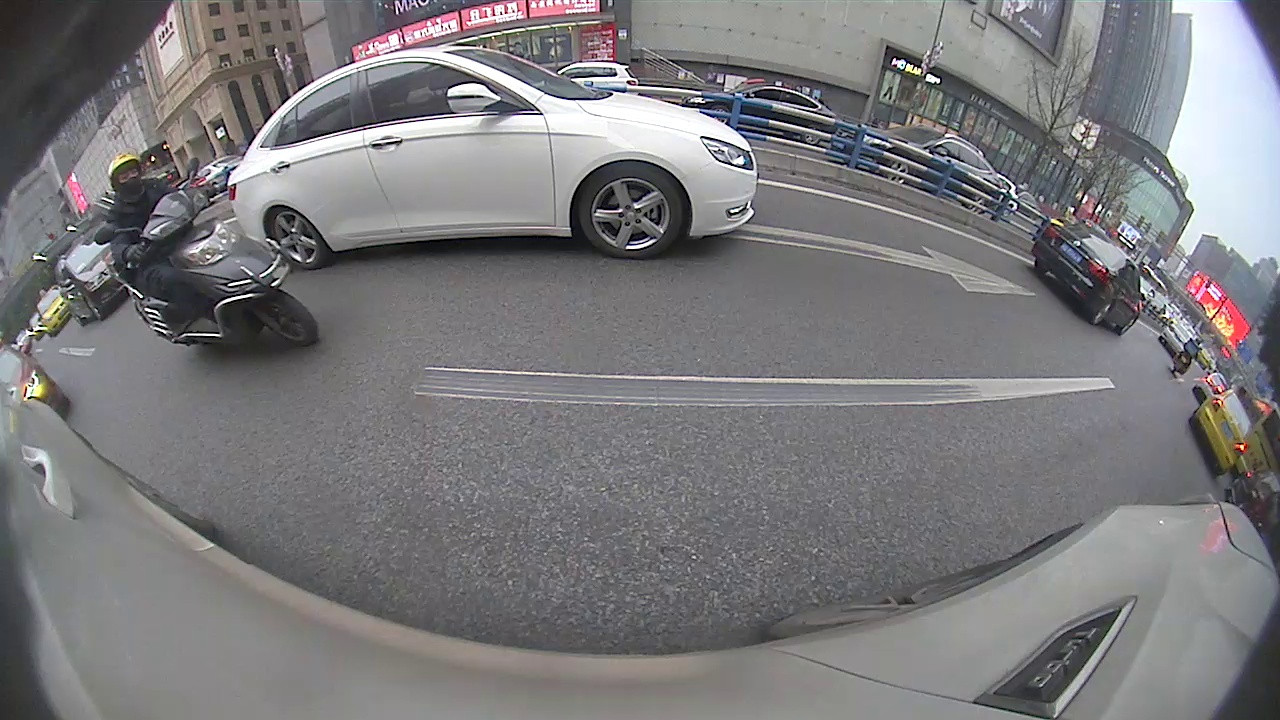car: (225, 37, 759, 272), (831, 119, 1011, 218), (1029, 211, 1148, 339), (679, 77, 843, 149), (1187, 384, 1257, 477)
front: (577, 161, 684, 262), (252, 288, 317, 350)
rear: (267, 208, 324, 271), (1094, 298, 1116, 327)
rider: (91, 151, 322, 352)
